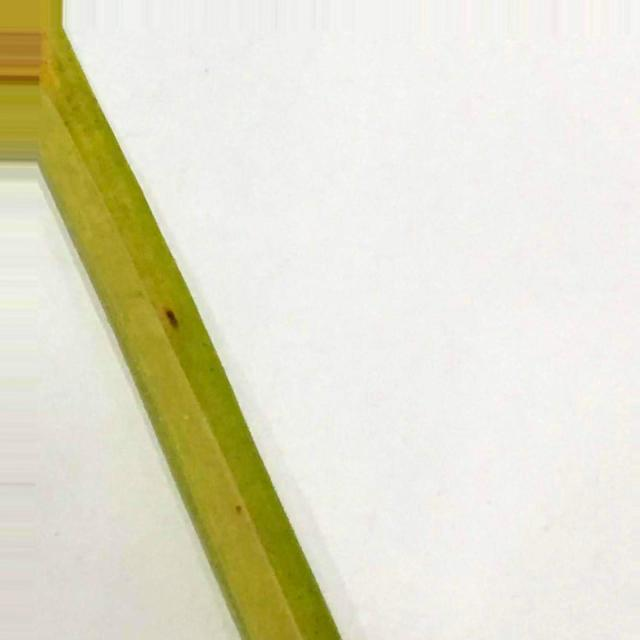Brown_Spot: (160, 301, 179, 330)
